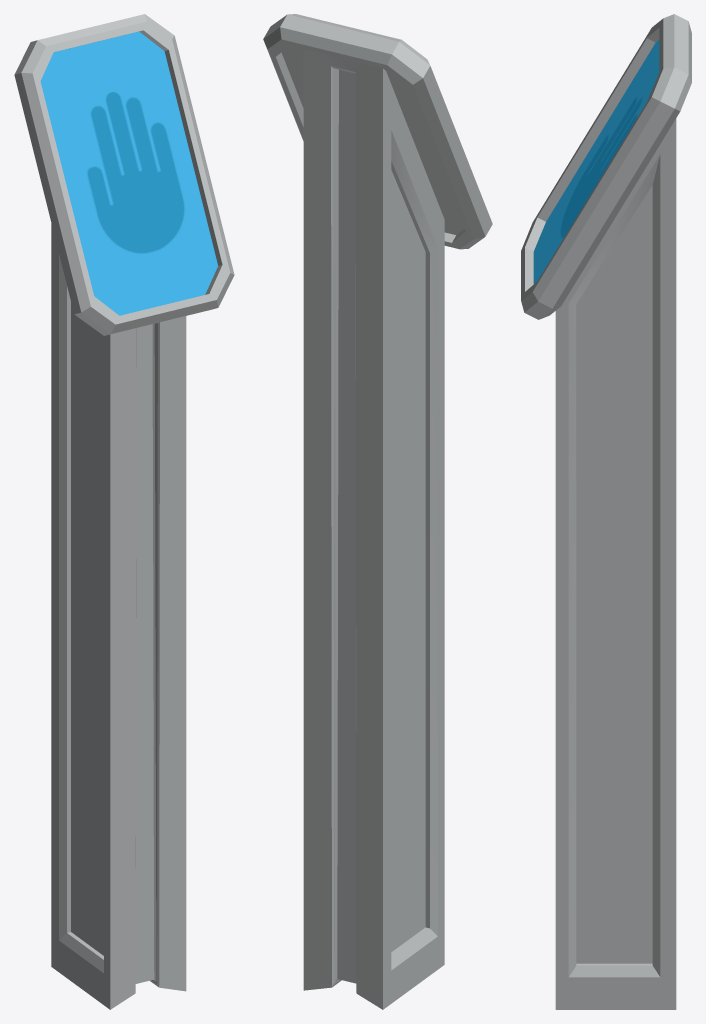
The model's file is neuro-interface_panel.glb.
3 views of the same model, side by side, from view 1: azimuth 30°, elevation 25°; view 2: azimuth 150°, elevation 25°; view 3: azimuth 270°, elevation 25° (orthographic). The views are drawn at different scales.
Parts seen in each view (by area): view 1: low_panel; view 2: low_panel; view 3: low_panel.
Part boxes in pixels (x1,y1,x2,y2): low_panel: (14, 14, 234, 1009); low_panel: (263, 14, 492, 1009); low_panel: (521, 14, 691, 1009).
Size of the model in its own units: 22.26 by 129 by 21.01.
Materials: 2 (2 with a texture image).
